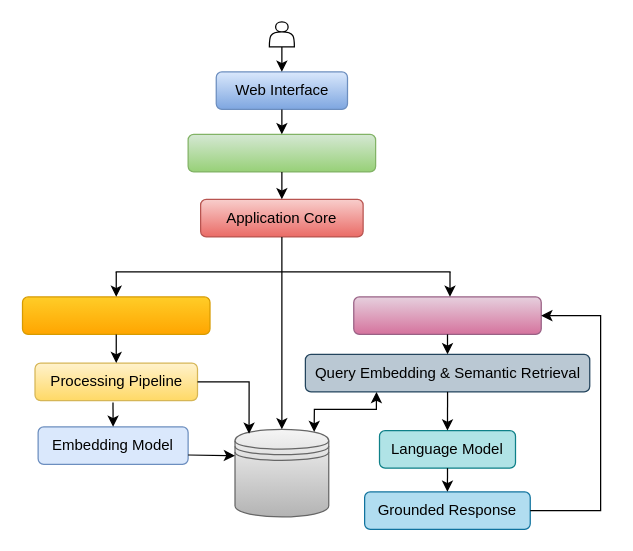
This 633x551 diagram has some shape labels left out. Here are the shapes that lost their labels. From the top down, the box of each, then its label:
(187, 133, 376, 172): Authentication & RBAC
(21, 296, 210, 334): Document Management
(352, 296, 541, 334): Chat Module
(234, 428, 329, 517): PostgreSQL pgvector
